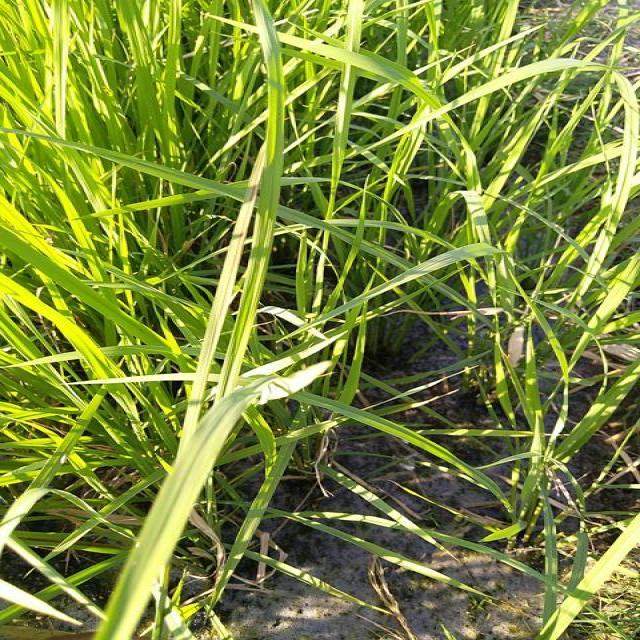Leaf Streak: (200, 144, 265, 378)
